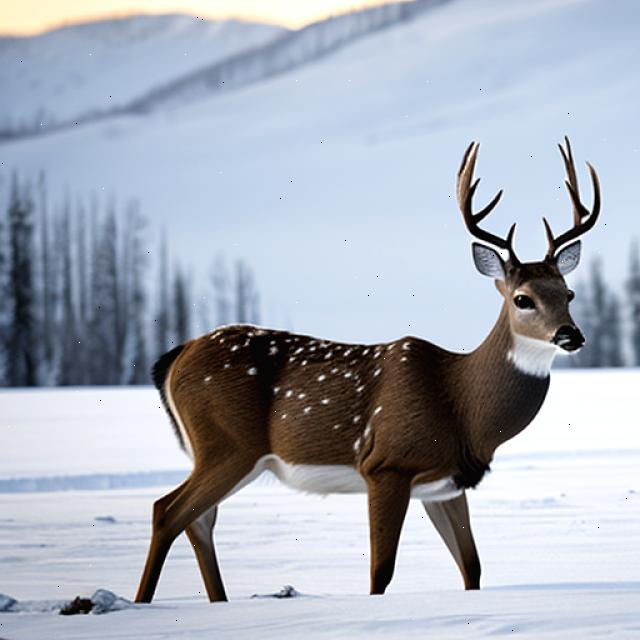deer: (116, 123, 604, 601)
